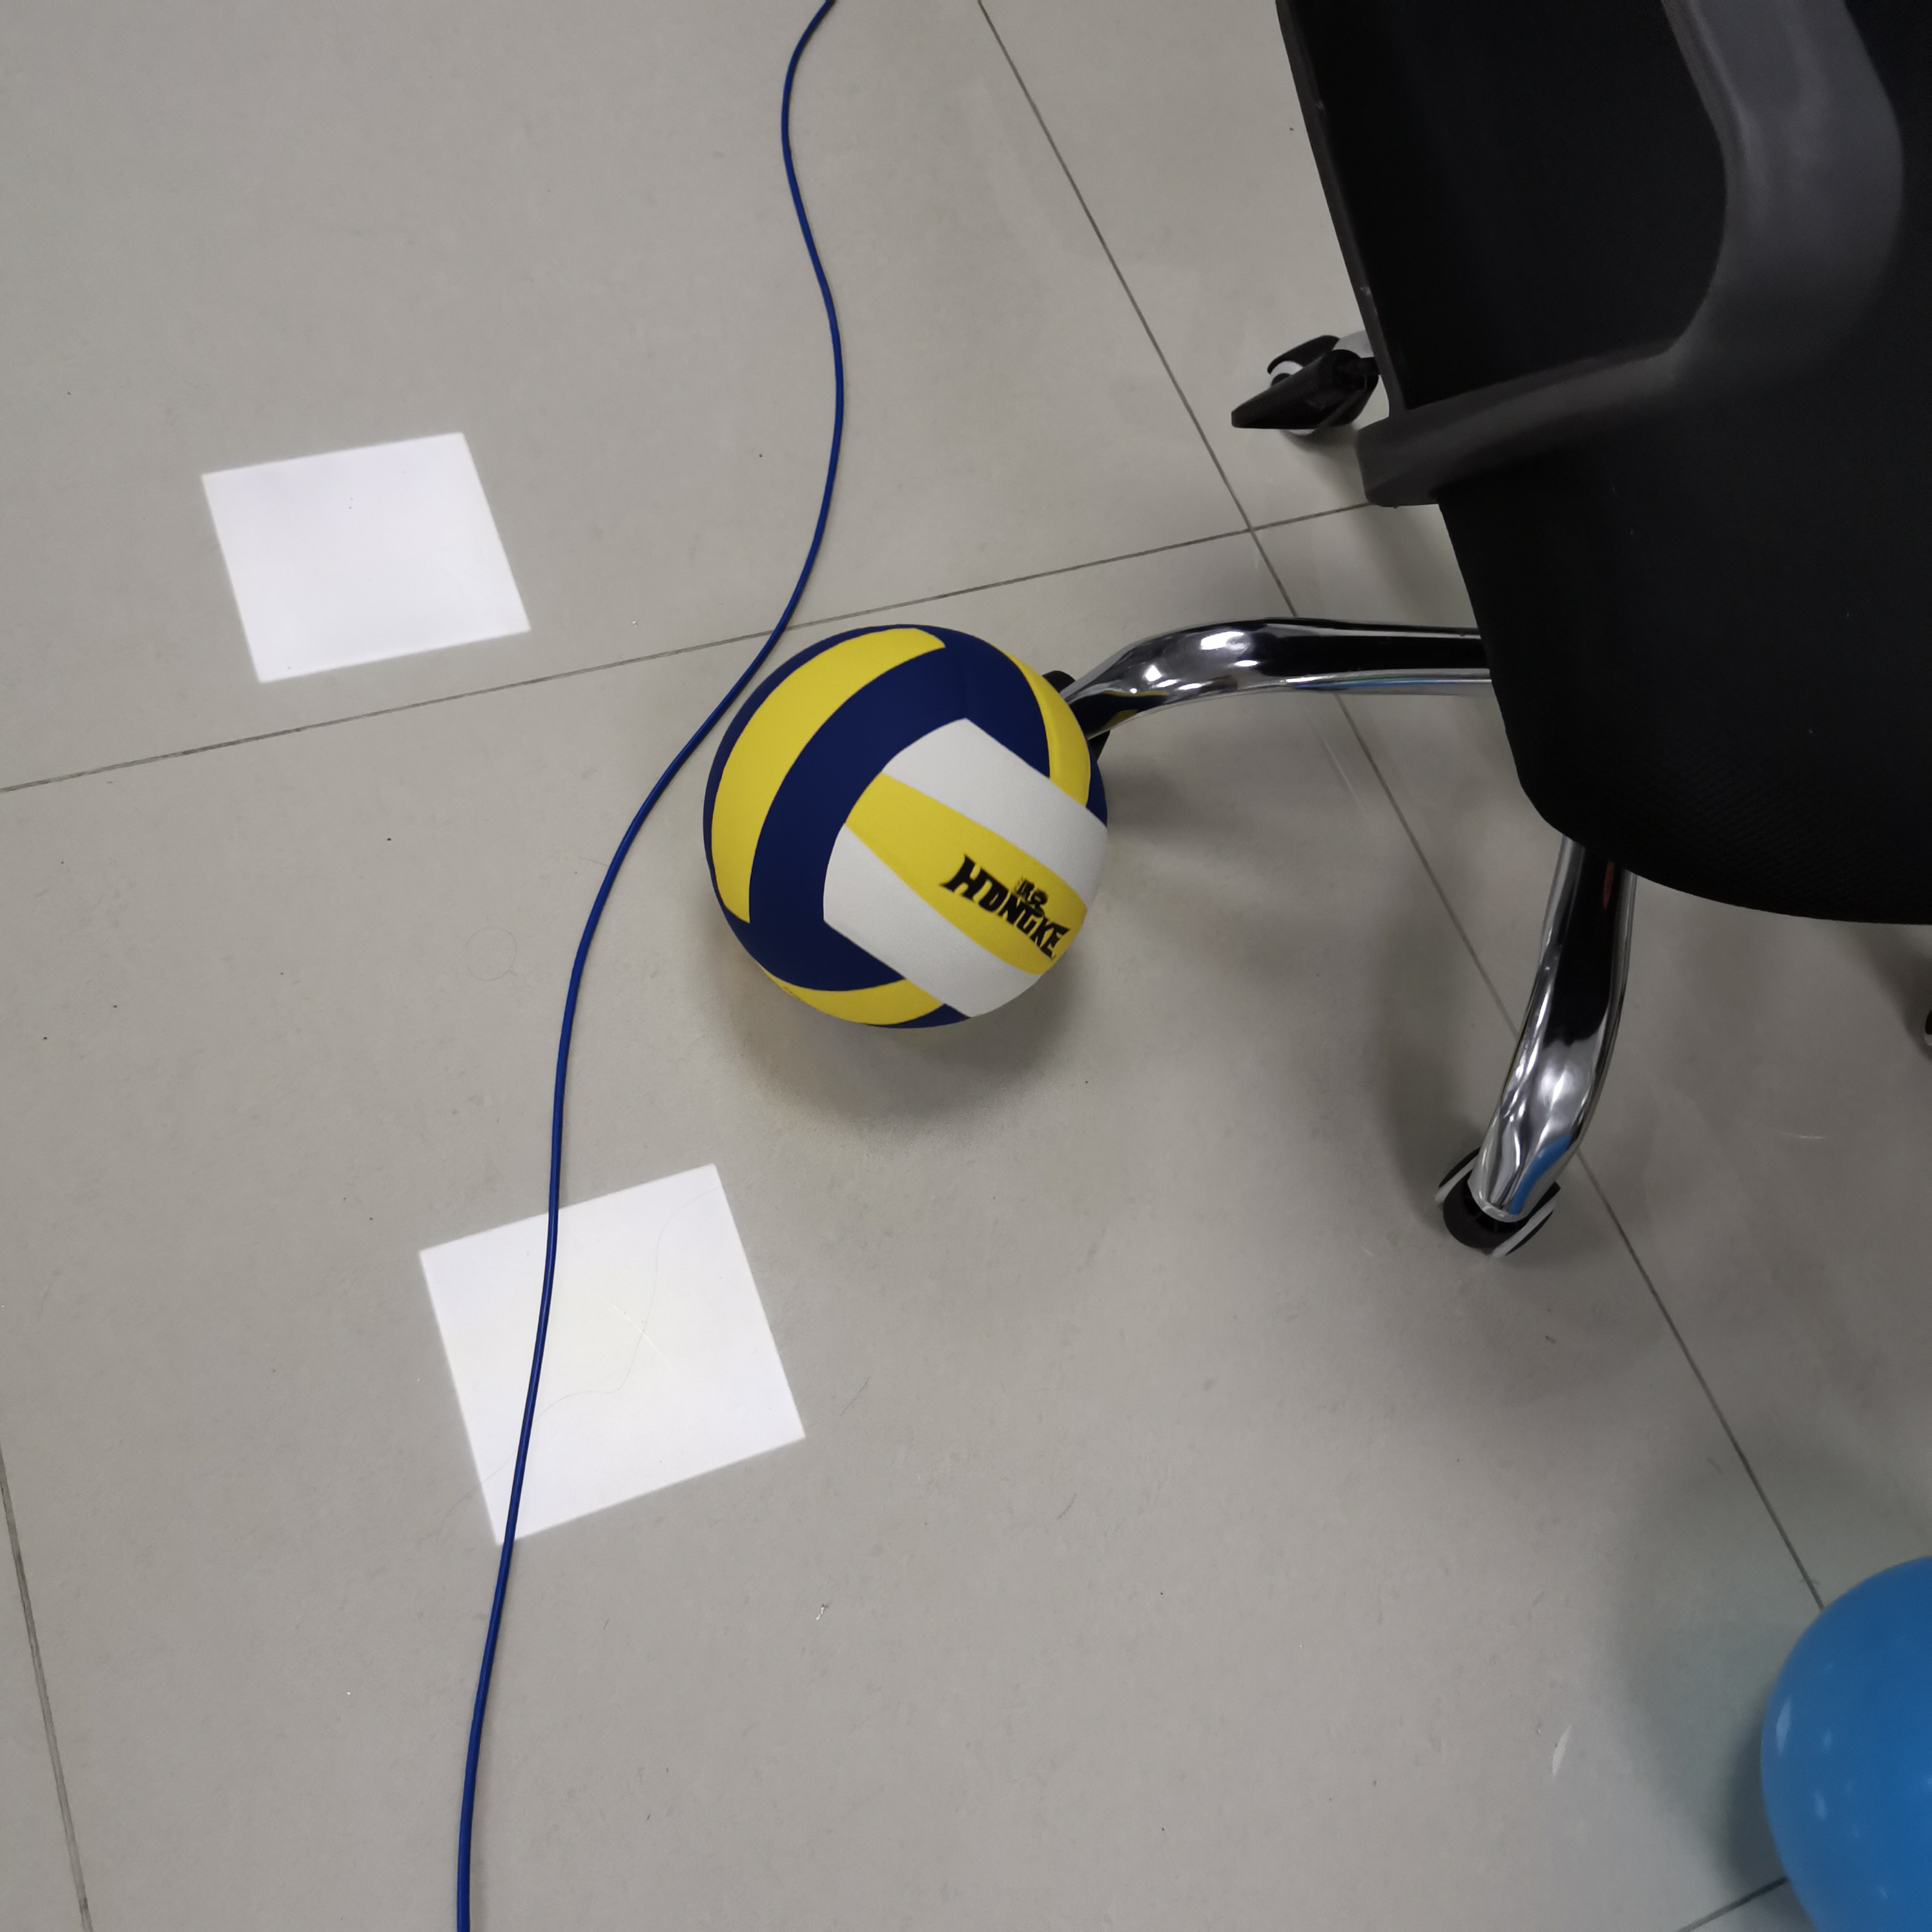volleyball: (709, 621, 1111, 1028)
